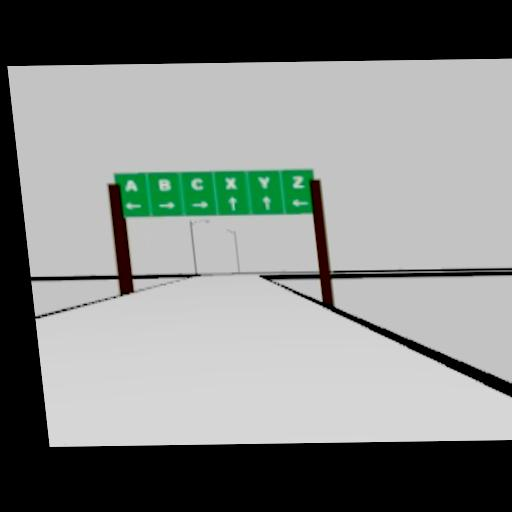A: (123, 178, 136, 190)
B: (157, 176, 170, 190)
C: (188, 175, 203, 190)
Left: (291, 196, 309, 206), (124, 201, 142, 208)
Right: (189, 198, 209, 207), (157, 200, 175, 208)
Straight: (226, 194, 237, 209), (260, 194, 271, 209)
X: (223, 175, 238, 187)
Y: (257, 174, 270, 186)
Z: (290, 174, 305, 188)
